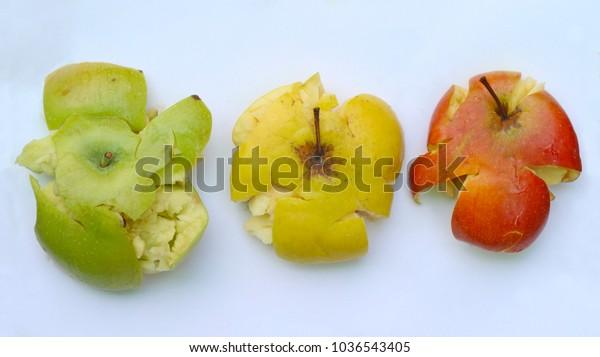organic: (17, 62, 211, 289), (231, 74, 403, 261), (408, 71, 581, 251)
